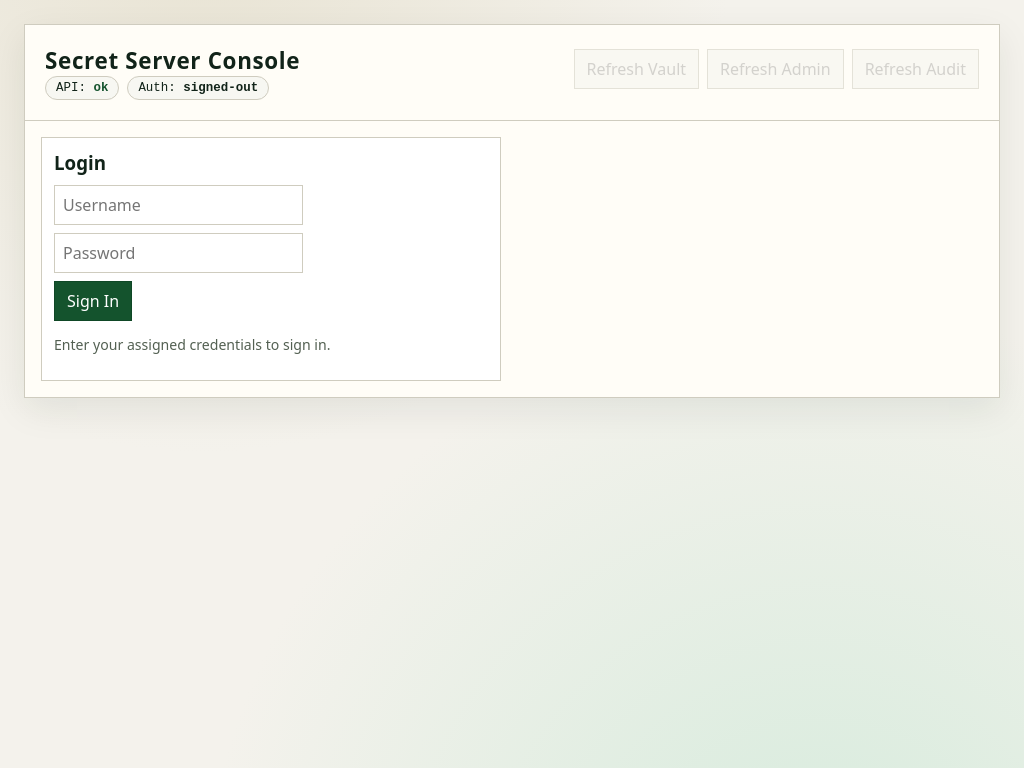
Scenario: logs in, reveals a secret, and loads versions
Click the button "Sign In" at (93, 301), box [54,281,132,321]
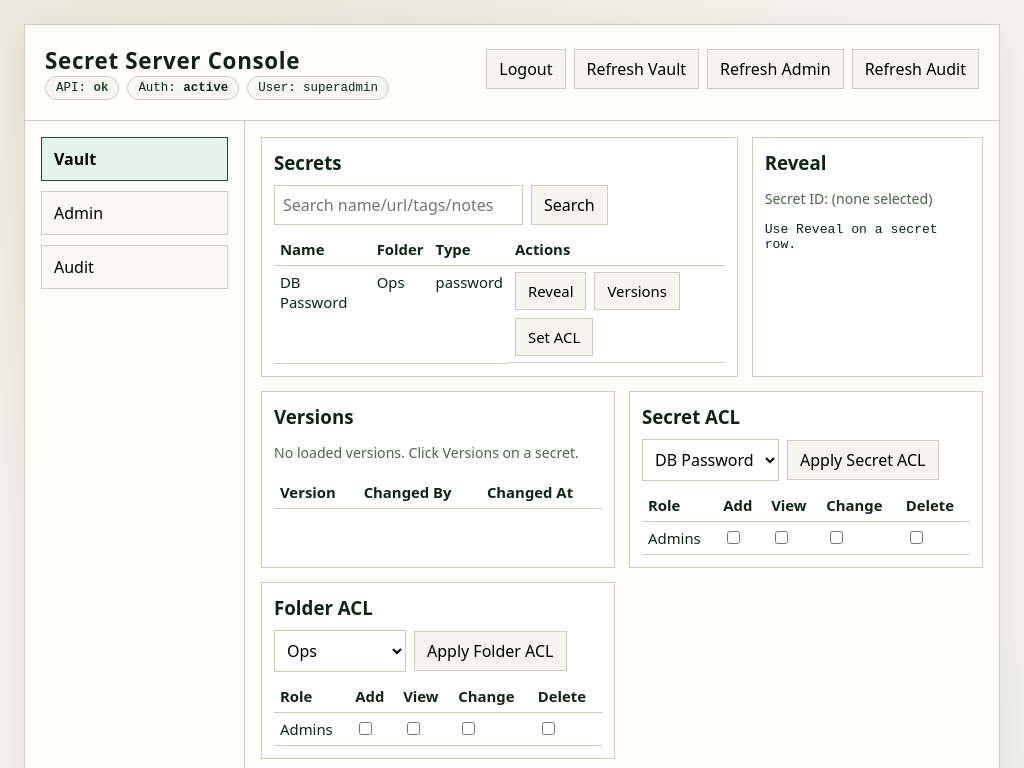
Now the button "Logout" is shown, box [486,48,566,88]
Now the button "Reveal" is shown
Click the button "Reveal" at (551, 291), box [515,272,586,310]
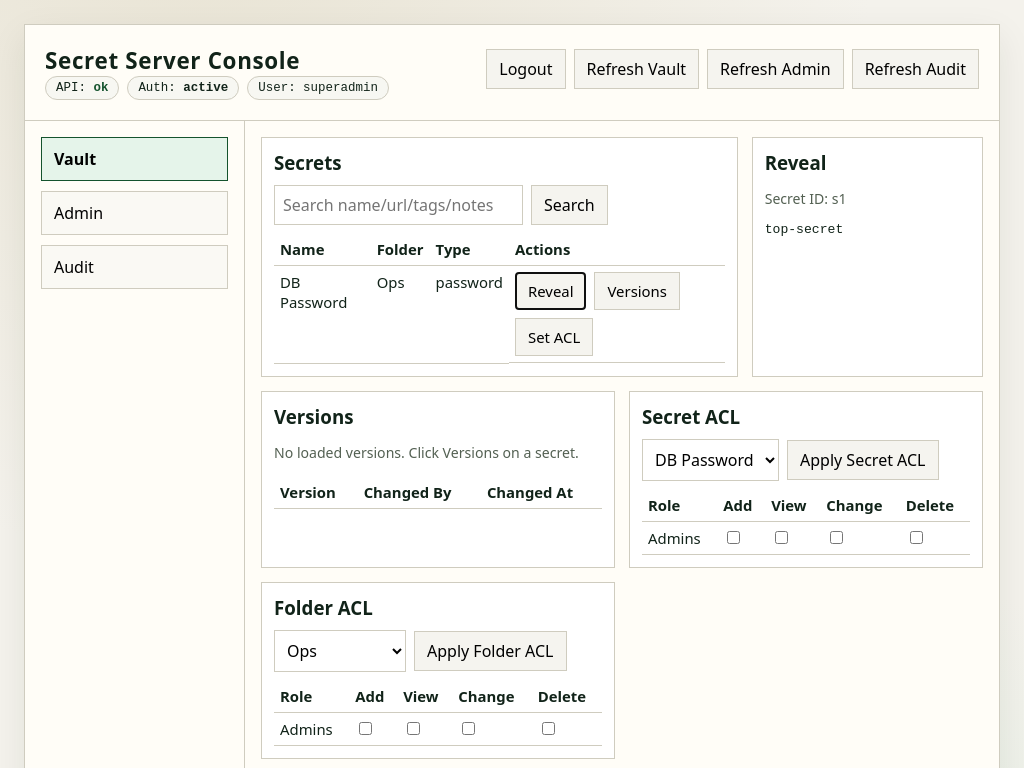
Click the button "Versions" at (637, 291), box [594,272,680,310]
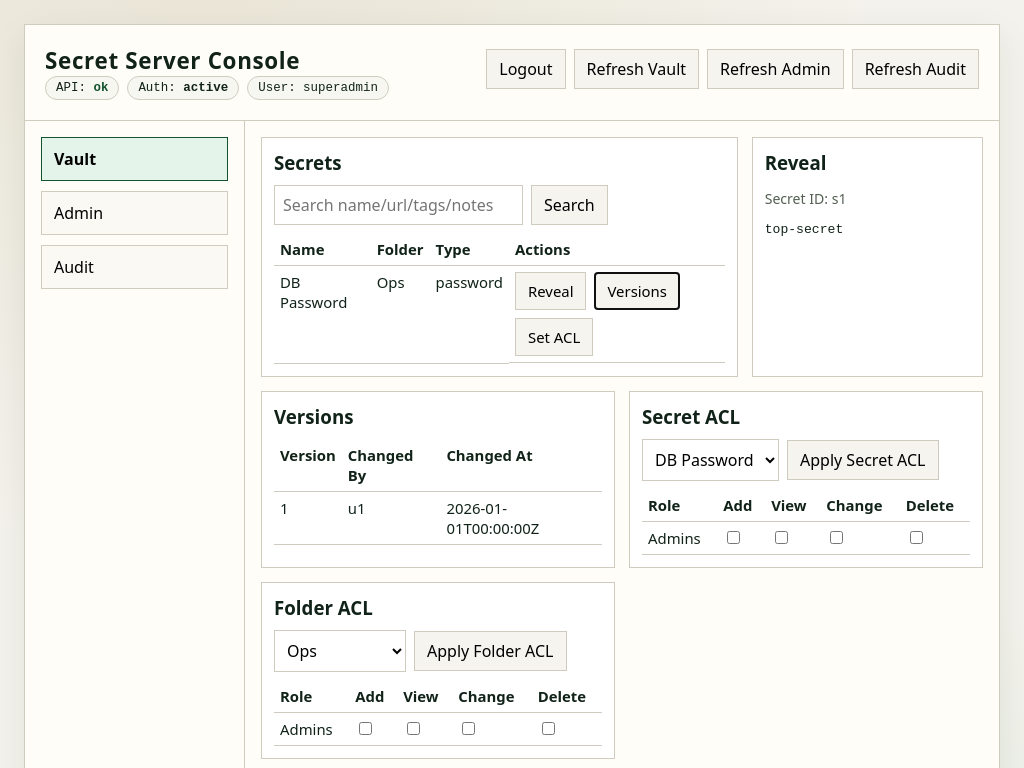
Now the text "top-secret" is shown, box [765,222,843,237]
Now the text "2026-01-01T00:00:00Z" is shown, box [440,491,602,544]
